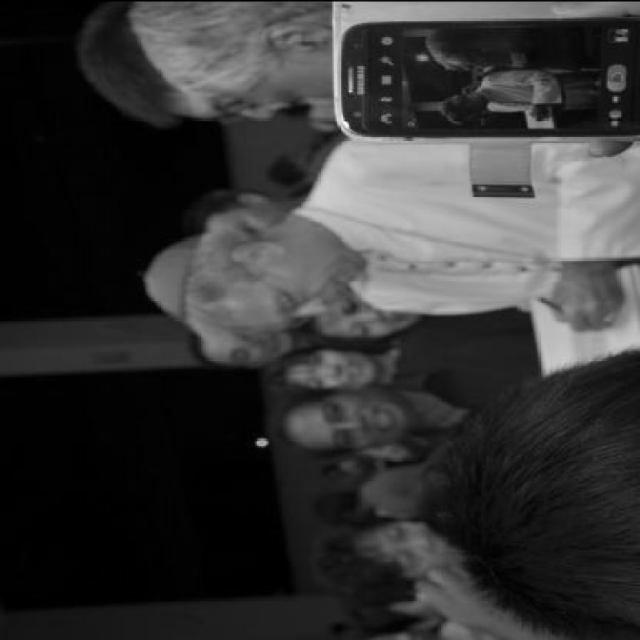fake: (326, 18, 620, 146)
